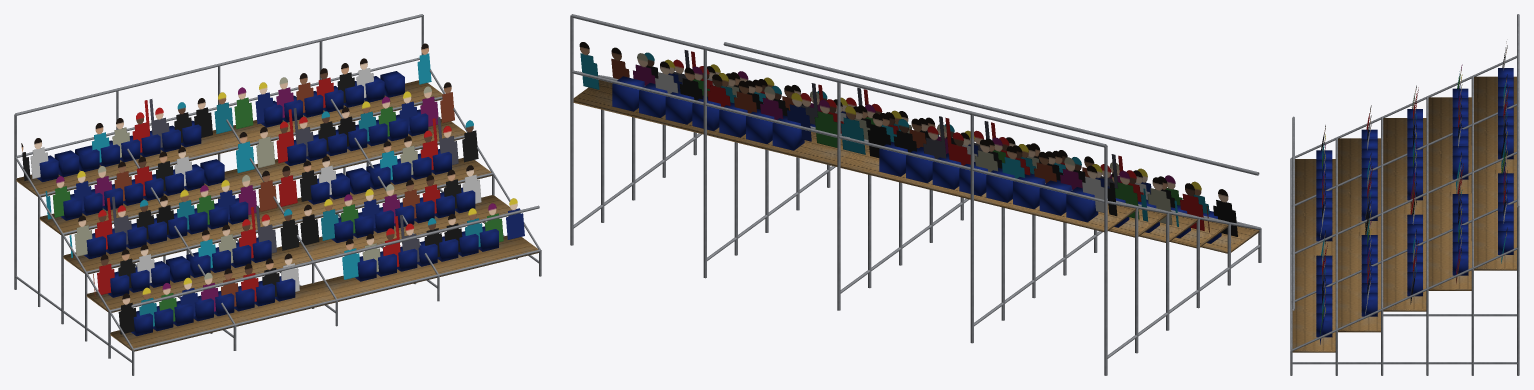
Rendered from scaffold_10m_crowd.glb.
3 renders of one model, left to right at view 1: azimuth 30°, elevation 25°; view 2: azimuth 150°, elevation 25°; view 3: azimuth 270°, elevation 25°, orthographic. The views are drawn at different scales.
Visible parts, largest first — view 1: scaffold_10m_crowd; view 2: scaffold_10m_crowd; view 3: scaffold_10m_crowd.
Part boxes in pixels (x1=…): scaffold_10m_crowd: x1=14, y1=14, x2=541, y2=375; scaffold_10m_crowd: x1=570, y1=14, x2=1261, y2=375; scaffold_10m_crowd: x1=1290, y1=14, x2=1519, y2=375.
Bounding box in the file's own units: 10.06 × 4.13 × 5.06.
Materials: 4 (4 with a texture image).
